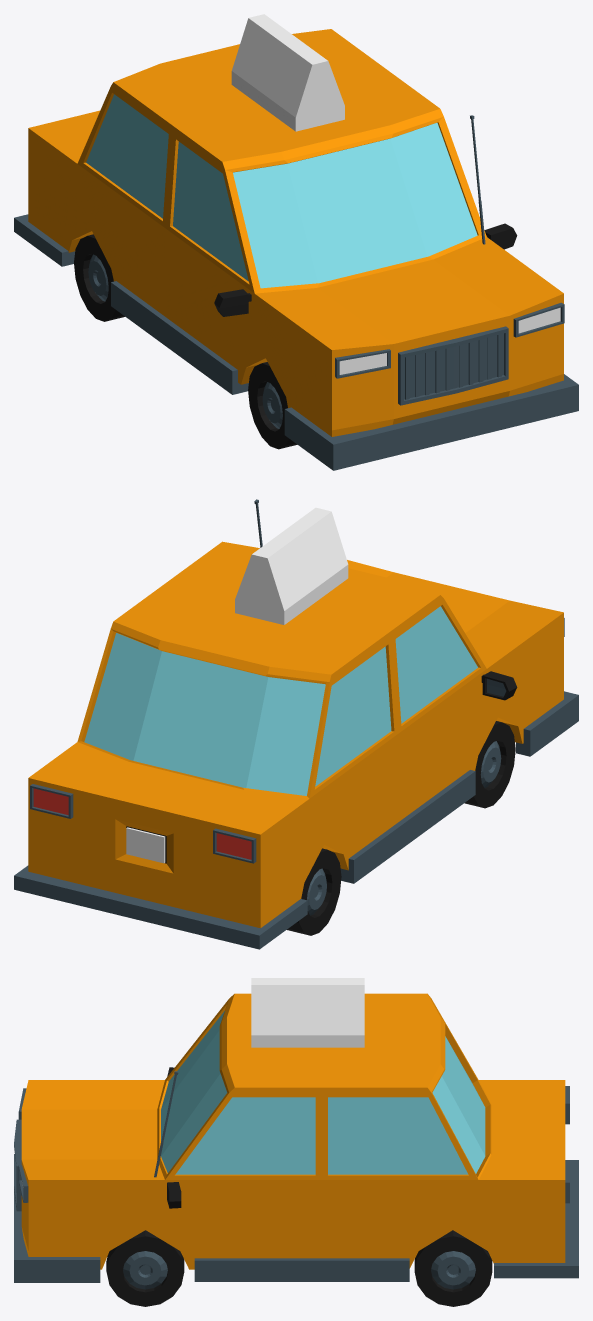
Rendered from taxi.glb.
3 views of the same model, one above another, from view 1: azimuth 30°, elevation 25°; view 2: azimuth 150°, elevation 25°; view 3: azimuth 270°, elevation 25° (orthographic). The views are drawn at different scales.
Parts seen in each view (by area): view 1: Police_Car.001_Cube.029; view 2: Police_Car.001_Cube.029; view 3: Police_Car.001_Cube.029.
Boxes of the visible parts, <box> form: Police_Car.001_Cube.029: <box>14,14,578,470</box>; Police_Car.001_Cube.029: <box>14,499,578,949</box>; Police_Car.001_Cube.029: <box>14,978,578,1306</box>.
Size of the model in its own units: 5.37 by 5.39 by 9.98.
